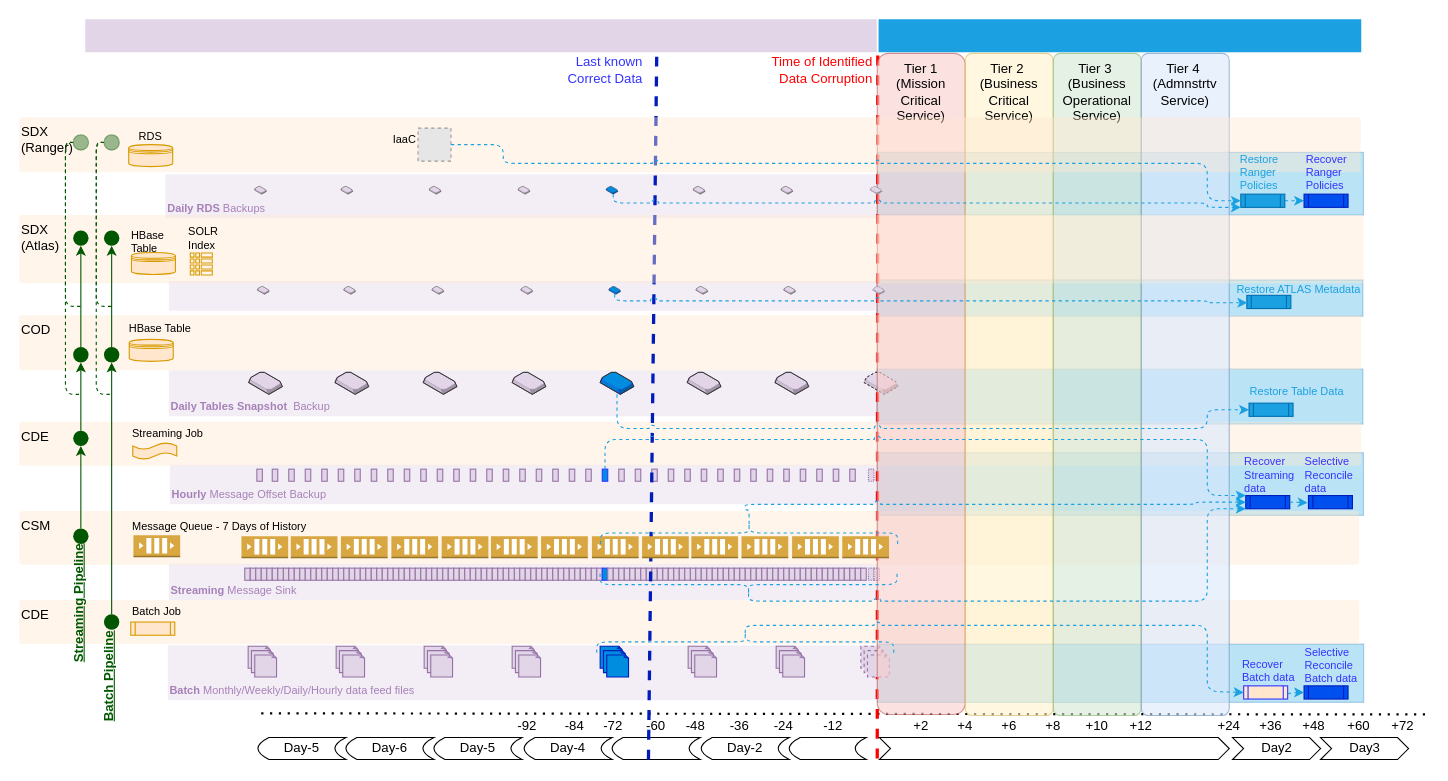
Image size: 1448x781. Some labels were removed from this diagram. Grey dashed boxes stand in for pictures. The centre of each missing label's shape, as x and y in pixels:
"Backup Strategy" belongs at (480,35).
"Daily Tables Snapshot & Index Backup" belongs at (524,295).
"Day-1" belongs at (827,748).
"Day-3" belongs at (655,748).
"Day1" belongs at (1053,748).
"Restore & Recover Strategy" belongs at (1119,35).
